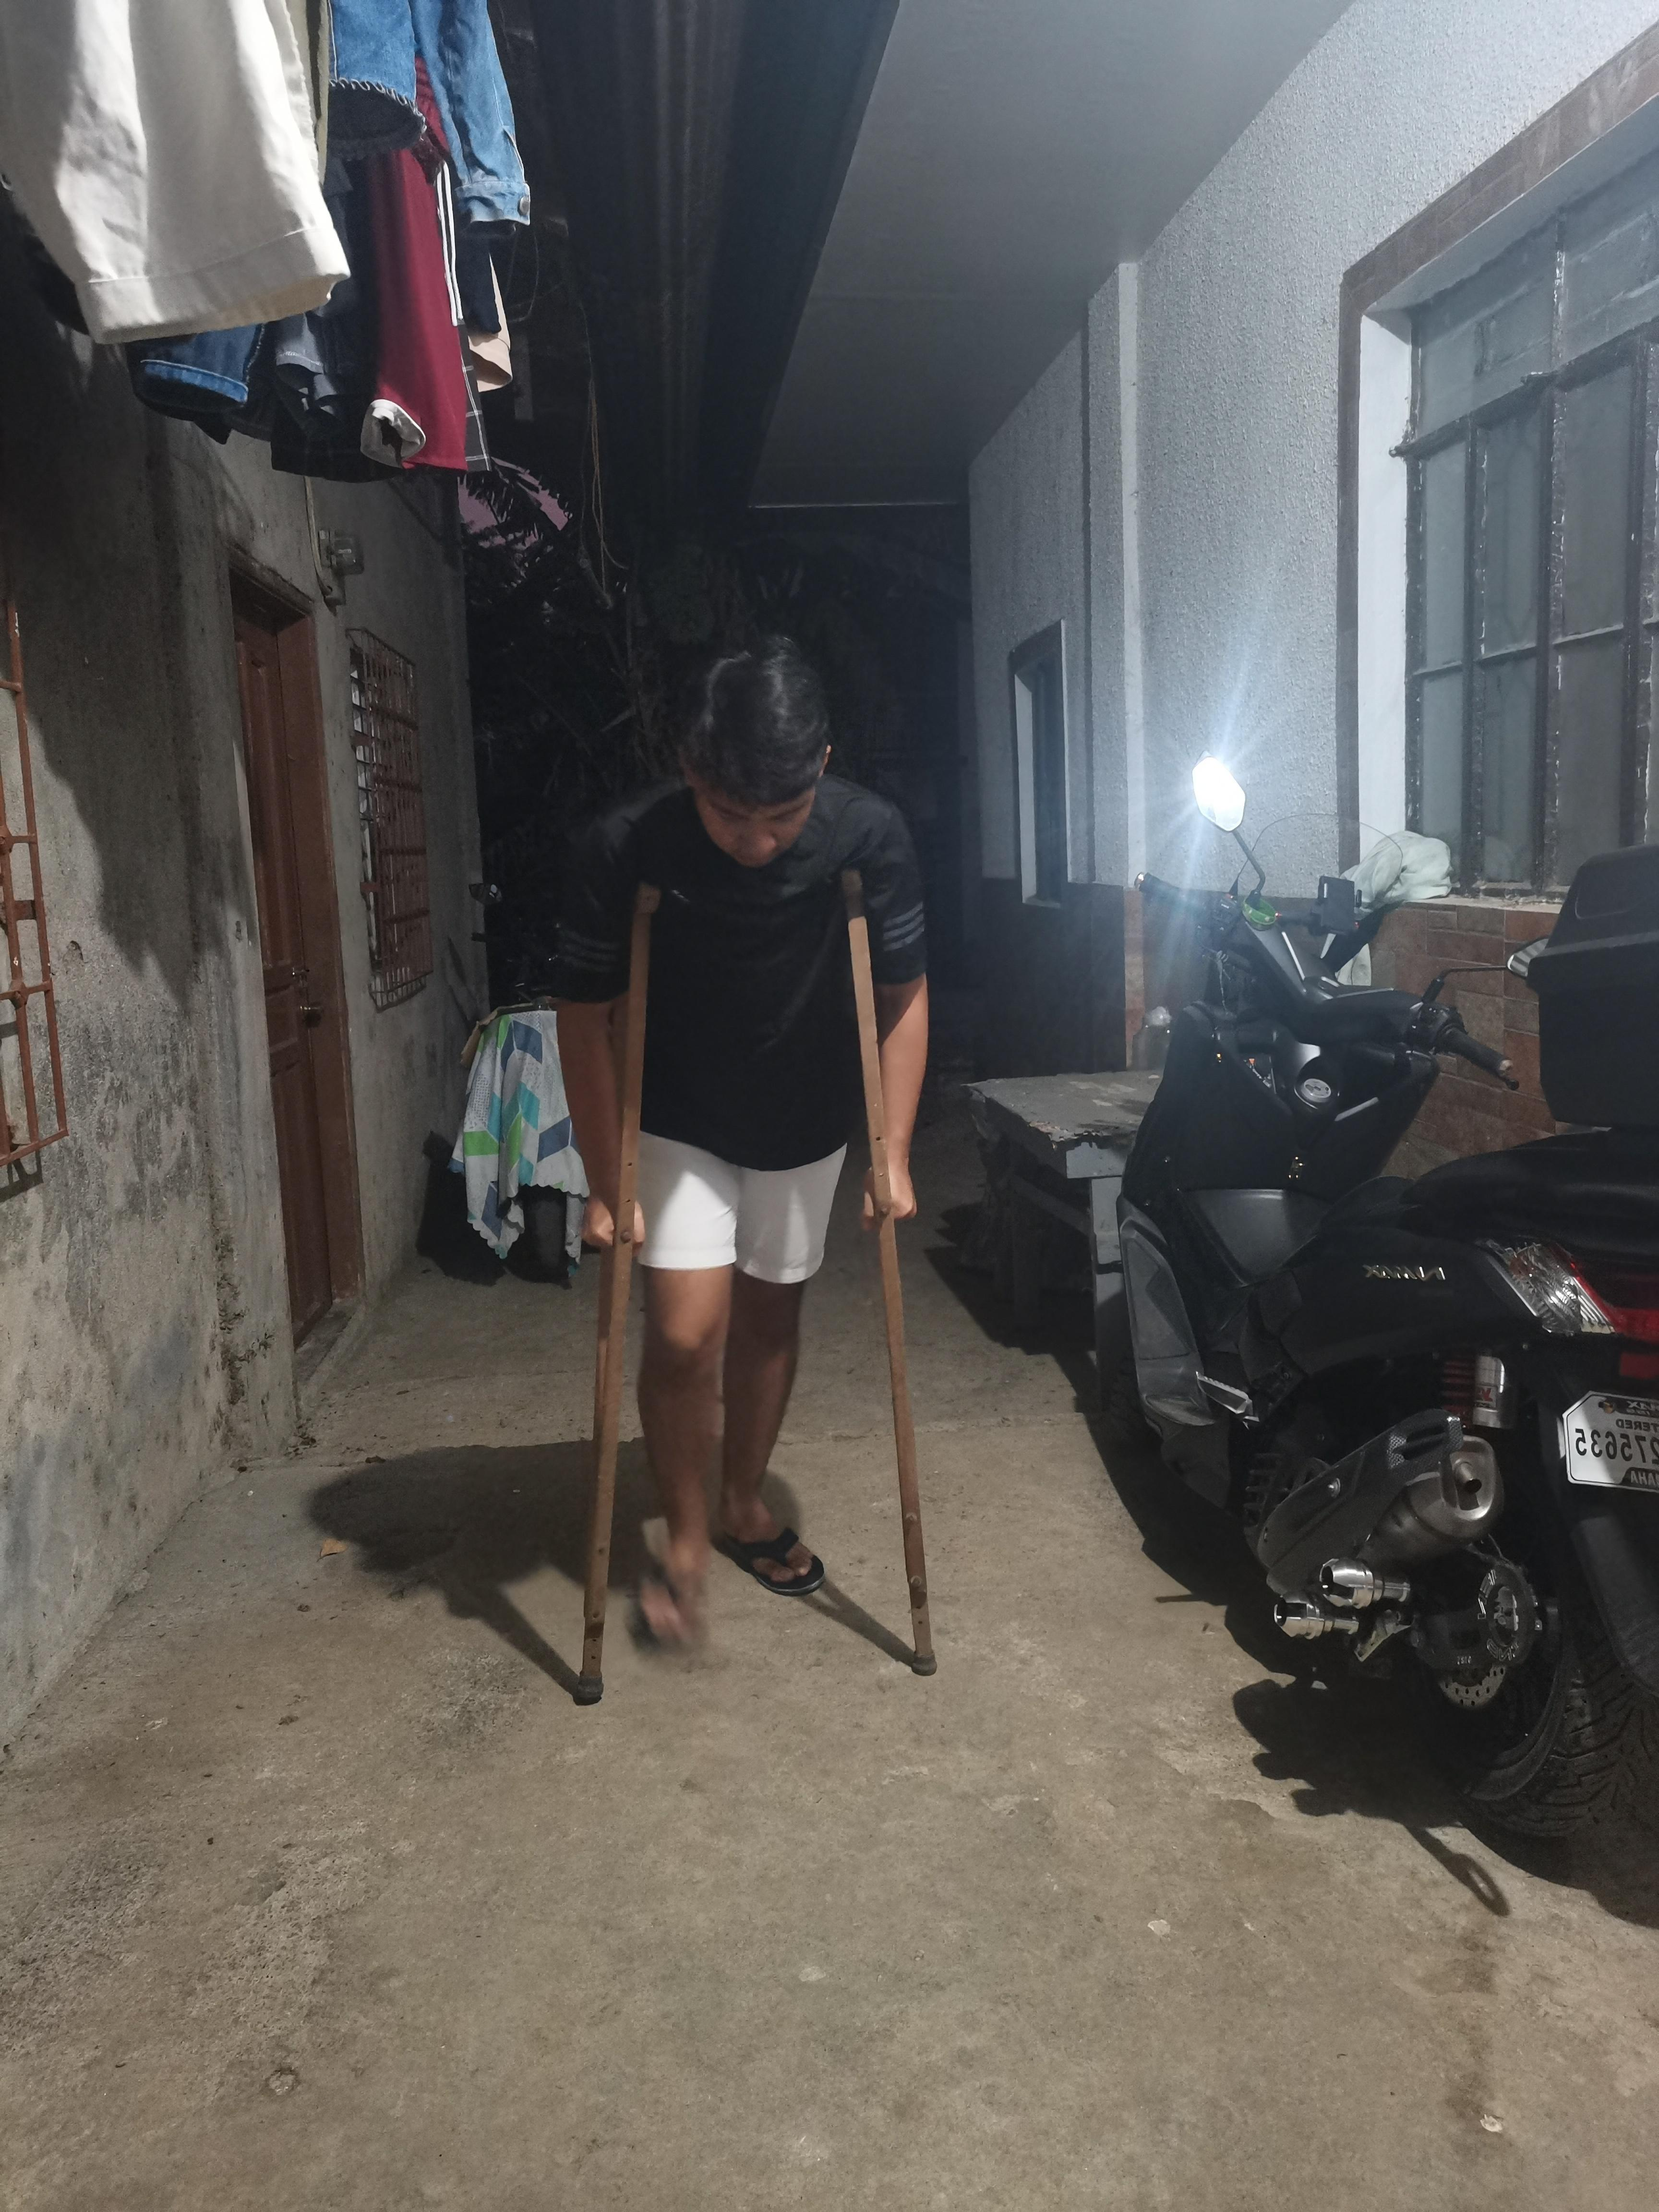crutches: (530, 606, 951, 1712)
